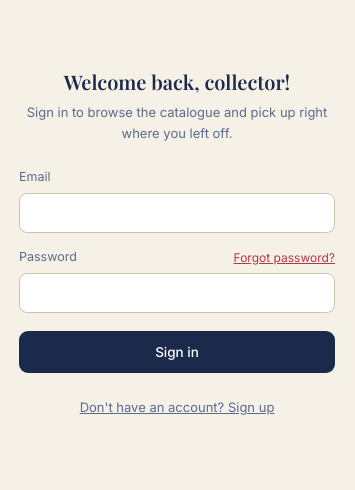
it: Login — sign-in › recognizes the specific email_not_confirmed error and offers a working resend action
Type "unconfirmed@example.test" into the field labelled "Email".
click(177, 213); type("unconfirmed@example.test")  # box [19, 193, 335, 233]
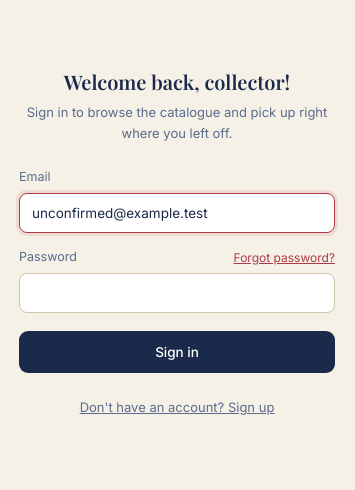
Type "a-password" into the password field labelled "Password".
click(177, 293); type("a-password")  # box [19, 273, 335, 313]
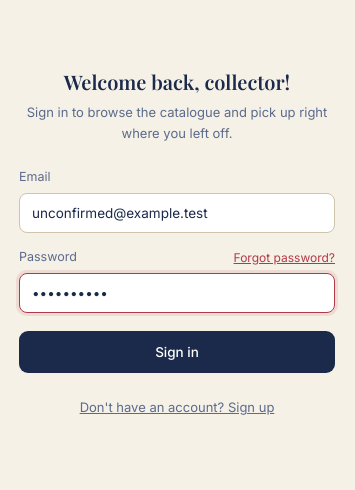
Click the button "Sign in".
click(177, 352)  # box [19, 331, 335, 373]
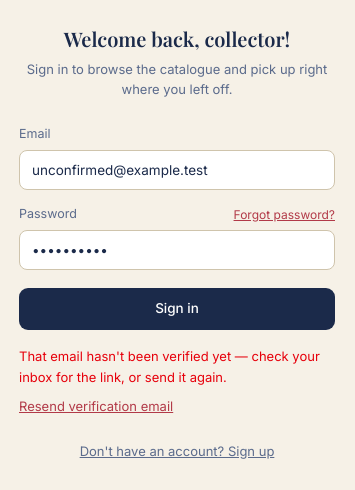
Now the text "hasn't been verified" is shown, box [19, 348, 320, 385]
Click the button "Resend verification email".
click(96, 406)  # box [19, 396, 173, 417]
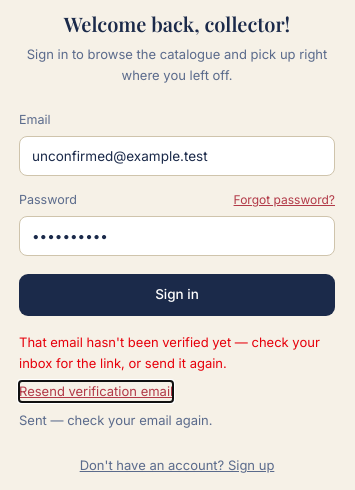
Now the text "Sent — check your email again." is shown, box [19, 412, 212, 428]
